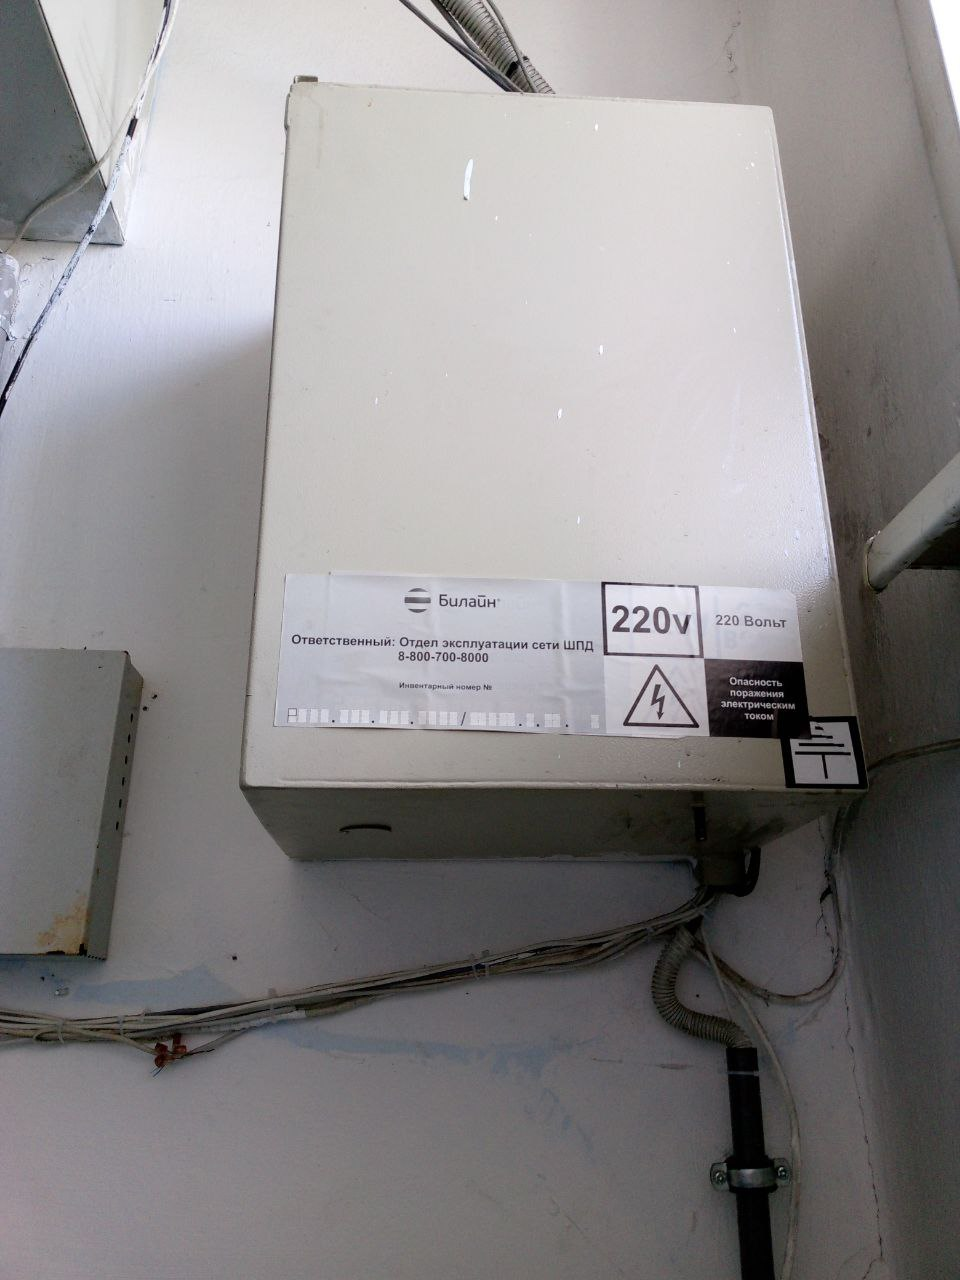sv-5: (229, 66, 878, 864)
